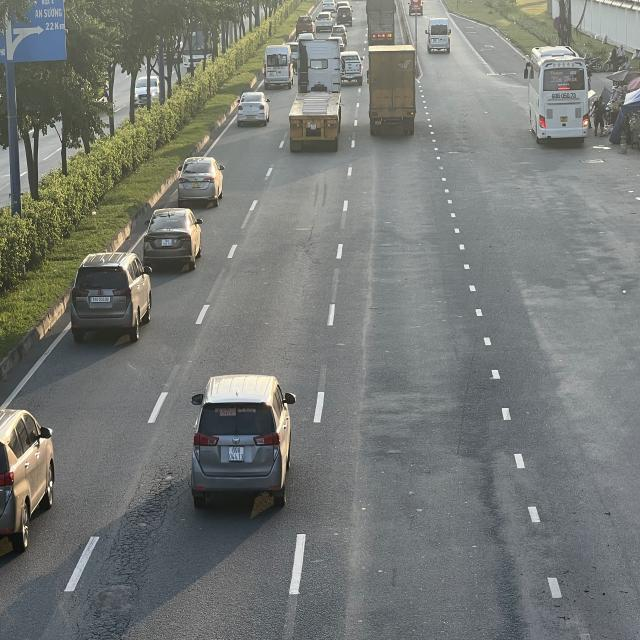car: (189, 375, 296, 512), (0, 408, 58, 556), (69, 252, 151, 342), (146, 207, 207, 269), (177, 157, 225, 209), (238, 90, 271, 126), (340, 52, 363, 87)
coach: (527, 47, 590, 147)
container: (289, 41, 342, 153)
truck: (370, 40, 420, 134), (366, 0, 397, 45)
van: (264, 44, 294, 89), (428, 17, 452, 55)
